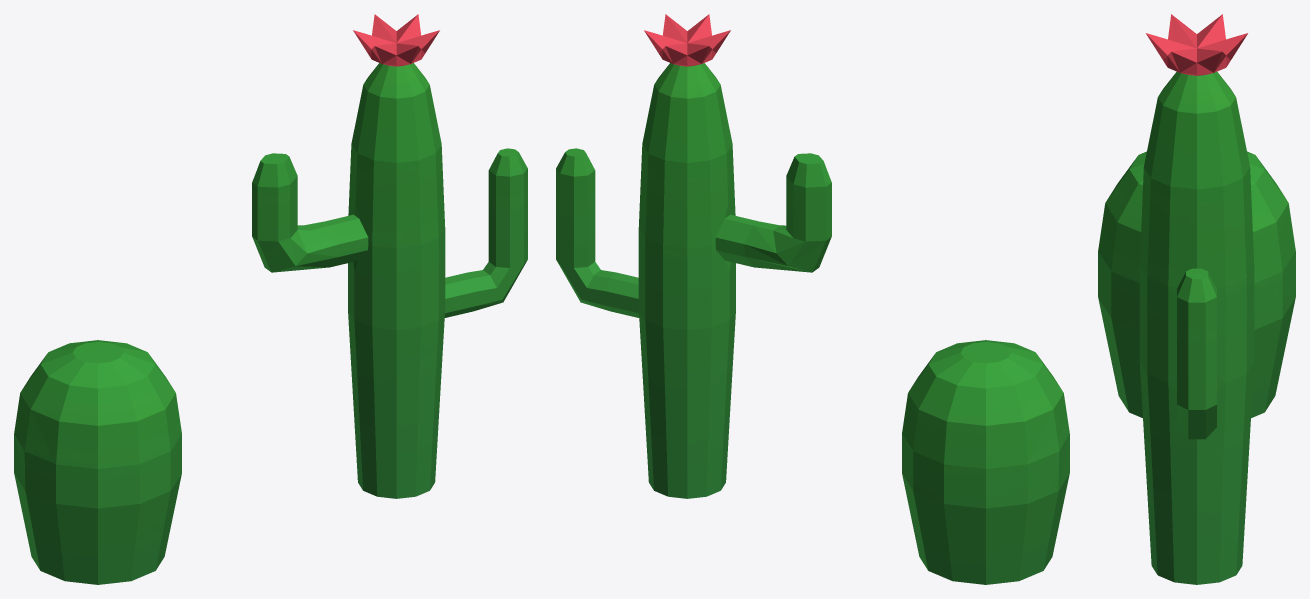
File: cacti.fbx
The picture shows the model from 3 angles, left to right: view 1: azimuth 30°, elevation 25°; view 2: azimuth 150°, elevation 25°; view 3: azimuth 270°, elevation 25°; orthographic projection. The views are drawn at different scales.
Visible parts, largest first — view 1: Cylinder001, Cylinder002; view 2: Cylinder001, Cylinder002; view 3: Cylinder001, Cylinder002.
Boxes of the visible parts, left/top/right/bottom form: Cylinder001: left=252, top=14, right=527, bottom=498; Cylinder002: left=14, top=340, right=181, bottom=584; Cylinder001: left=556, top=14, right=831, bottom=498; Cylinder002: left=902, top=340, right=1069, bottom=584; Cylinder001: left=1139, top=14, right=1254, bottom=584; Cylinder002: left=1098, top=151, right=1295, bottom=417.
Size of the model in its own units: 1121 by 974 by 326.
Materials: 1 (1 with a texture image).
